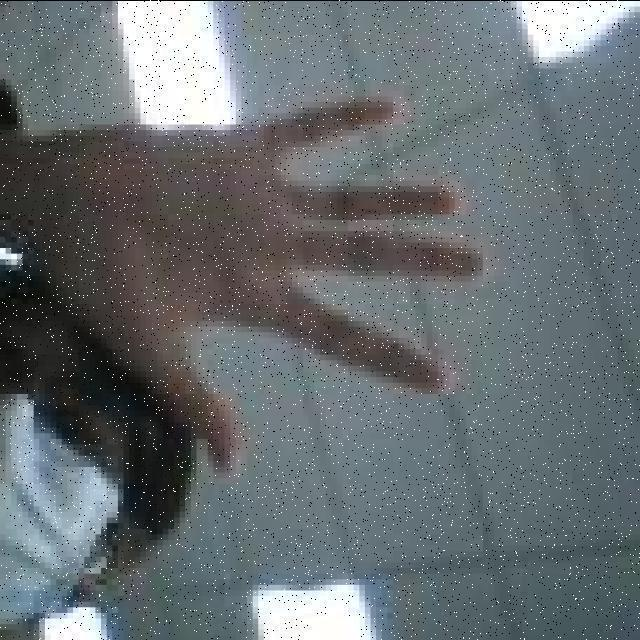hand: (17, 90, 500, 478)
